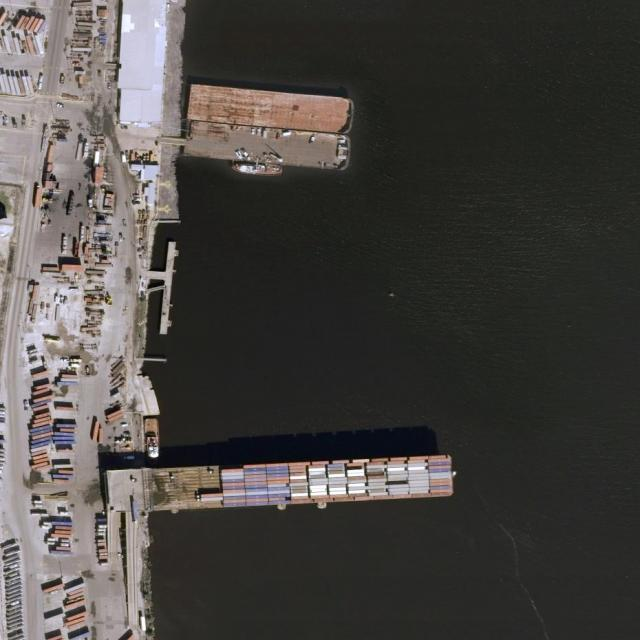Container Ship: (141, 451, 456, 513), (186, 82, 356, 136)
Dock: (156, 239, 178, 335)
Other Ship: (231, 162, 284, 177), (145, 418, 160, 458)
